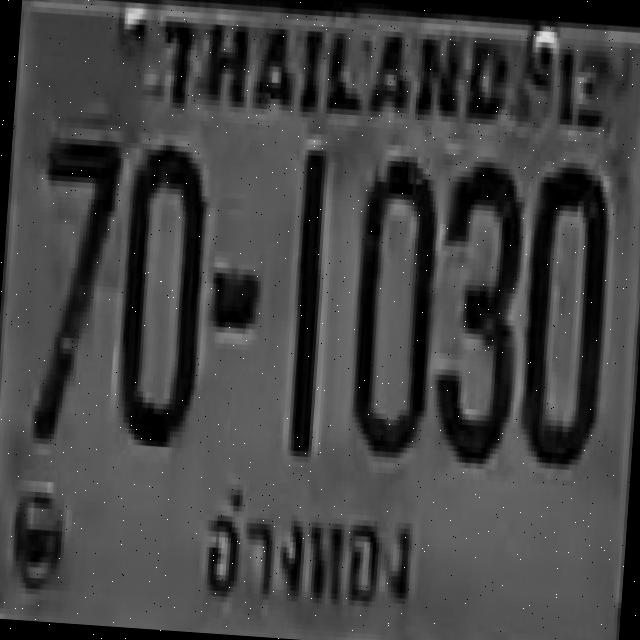0: (113, 134, 211, 440), (516, 158, 610, 462), (344, 151, 438, 451)
1: (281, 144, 329, 452)
3: (430, 152, 524, 456)
7: (24, 128, 119, 434)
AngThong: (194, 472, 426, 630)
